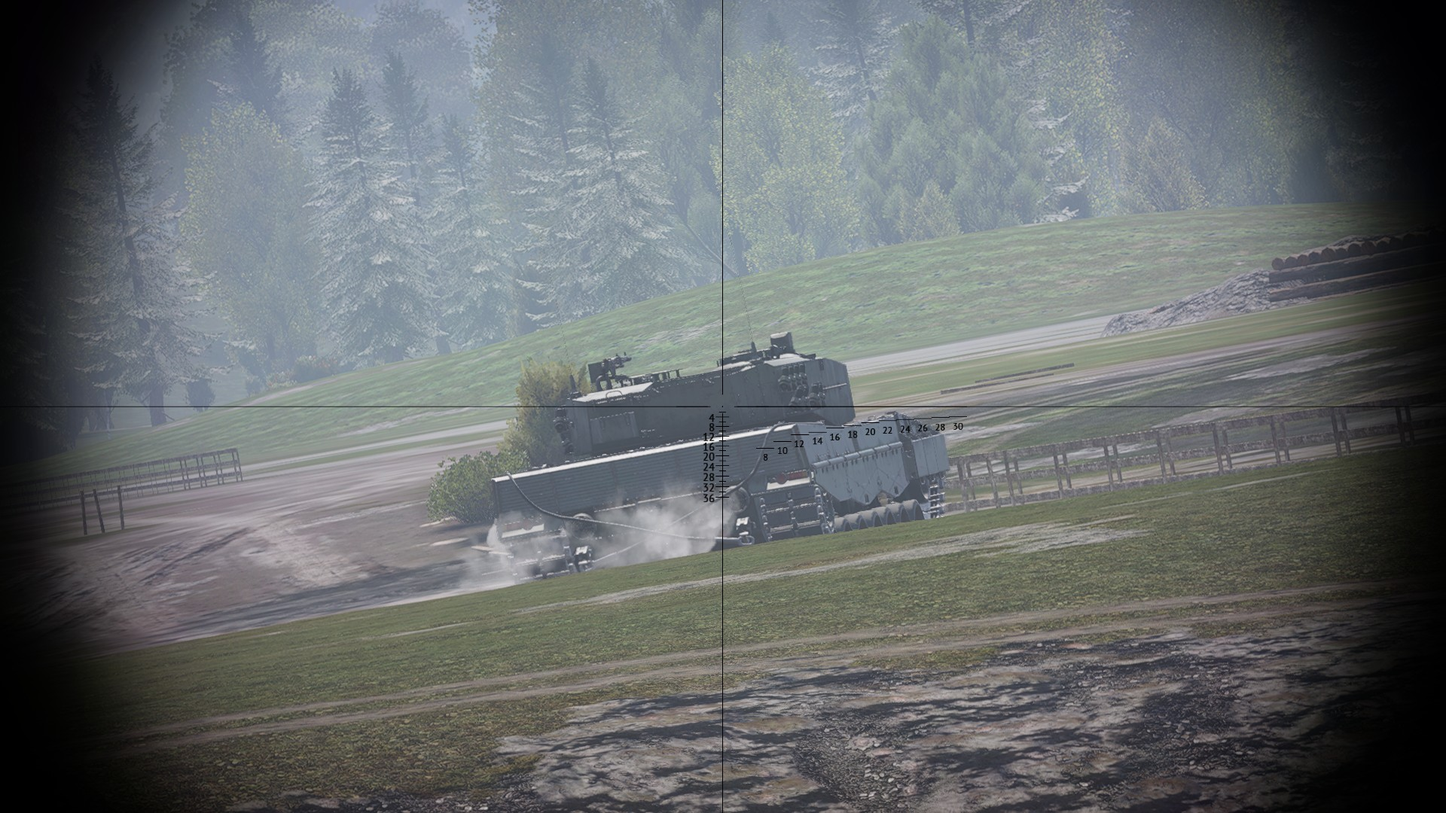leopard2: (490, 331, 952, 585)
